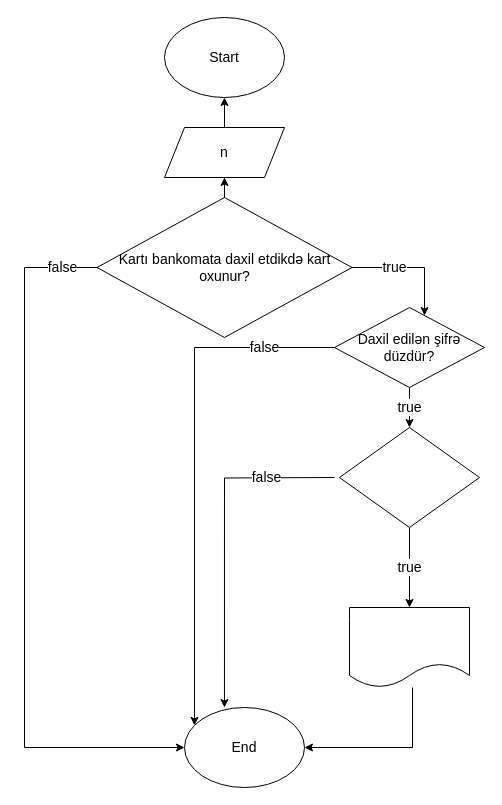
Some shapes in this 502 by 805 pixel diagram are drawn without their labels. Here are the shapes that lost their labels. From the top down, the box of each, then its label:
(338, 426, 480, 528): Hesabda n qədər məbləğ var?
(348, 606, 470, 688): n qədər olan məbləğı çıxar
